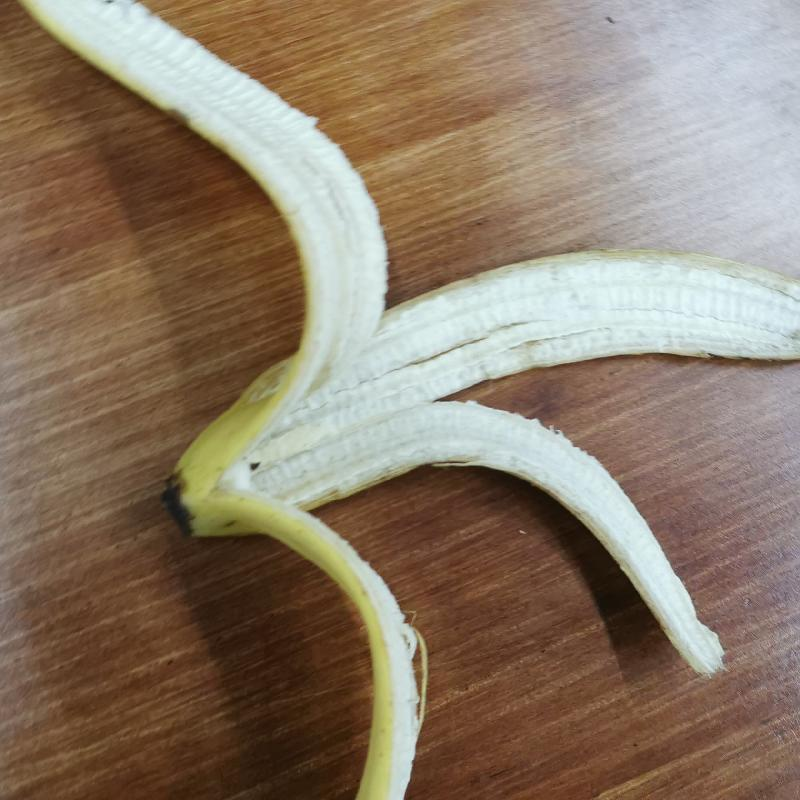bananas: (14, 7, 800, 799)
